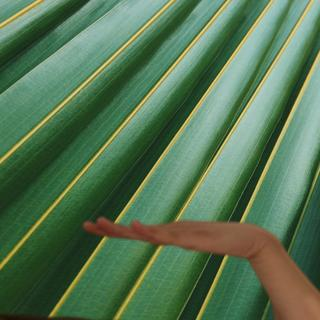WAIT: (77, 207, 273, 263)
